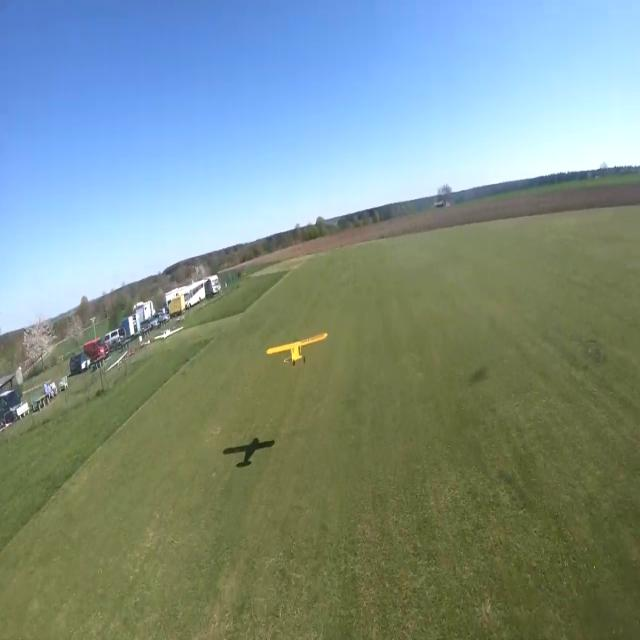iha: (266, 333, 328, 374)
